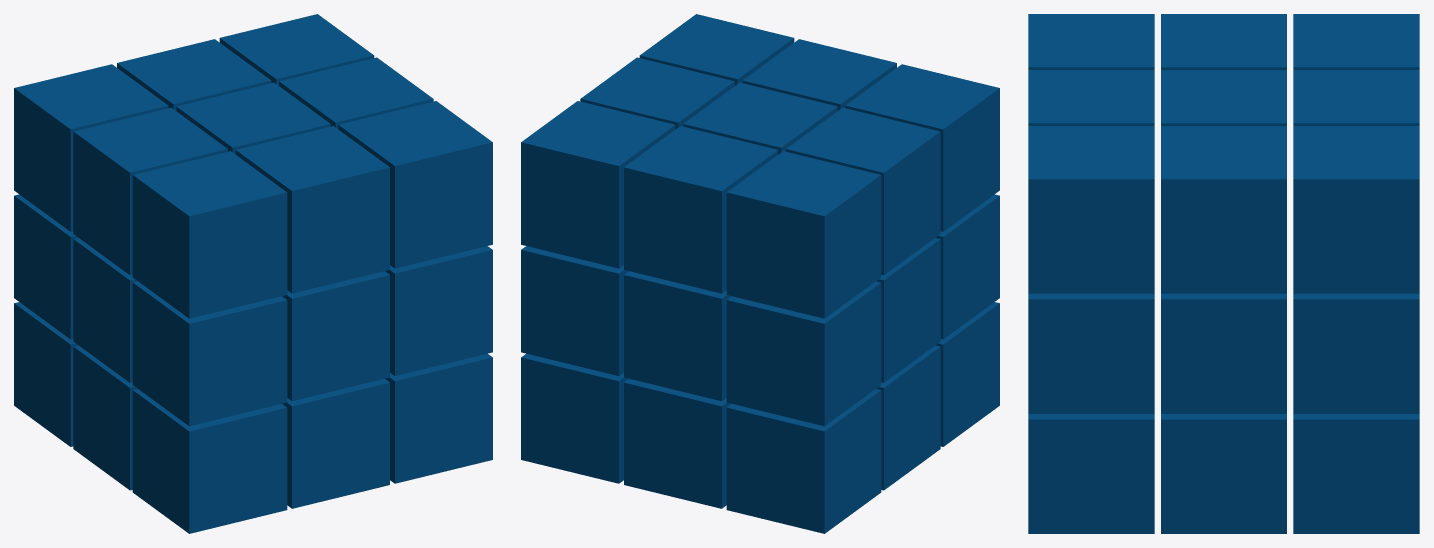
The model's file is 3x3_procurement_cube.glb.
3 views of the same model, side by side, from view 1: azimuth 30°, elevation 25°; view 2: azimuth 150°, elevation 25°; view 3: azimuth 270°, elevation 25° (orthographic). The views are drawn at different scales.
Parts seen in each view (by area): view 1: world; view 2: world; view 3: world.
Boxes of the visible parts, x1,y1,x2,y2 form: world: (14,14,492,533); world: (521,14,999,533); world: (1028,14,1419,533).
Size of the model in its own units: 3.1 by 3.1 by 3.1.
